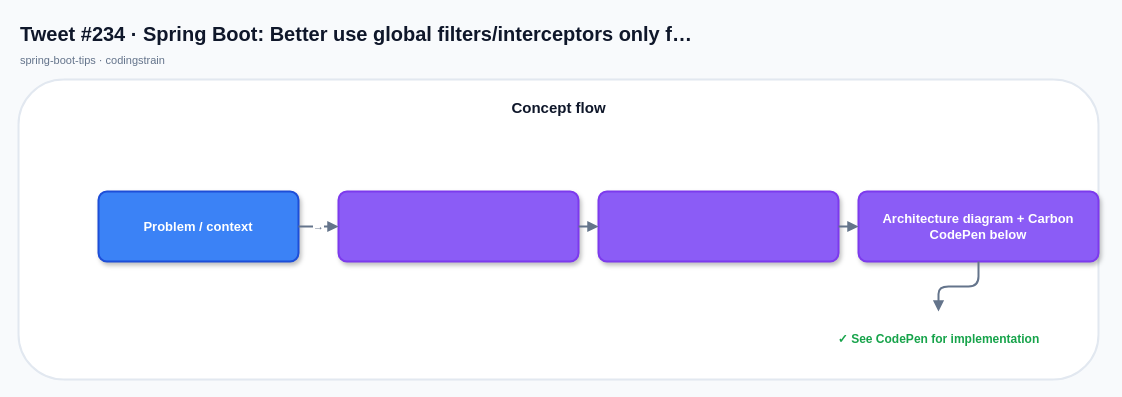
Some shapes in this 1122 by 397 pixel diagram are drawn without their labels. Here are the shapes that lost their labels. From the top down, the centre of each, then its label:
At (459,227): "#SpringBoot #JavaDev".
At (719,227): "Runnable sample: `spring-boot-tips`".
